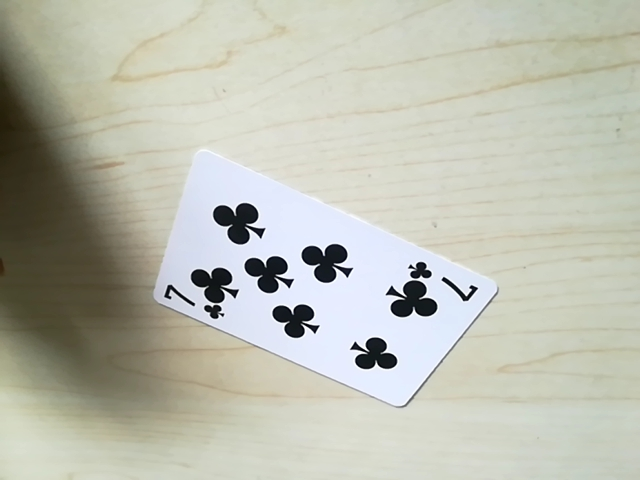mh 7: (409, 264, 490, 306), (162, 275, 215, 321)
